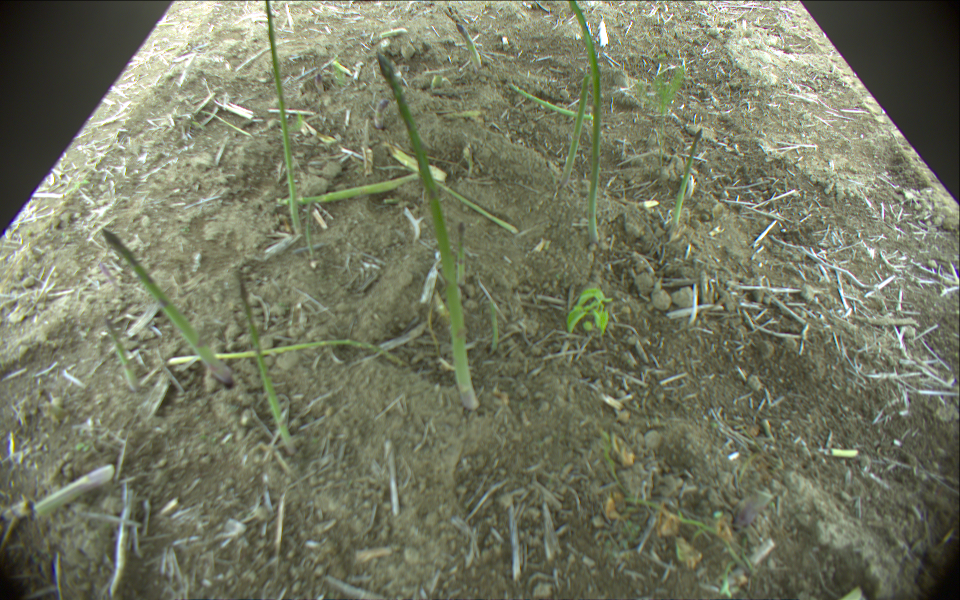aspa: (376, 44, 481, 411), (102, 226, 234, 384), (238, 266, 292, 445), (261, 1, 303, 231), (565, 1, 601, 247), (165, 339, 407, 366), (279, 169, 426, 207), (434, 178, 520, 236), (665, 126, 702, 235), (557, 69, 590, 189), (509, 83, 596, 121), (102, 313, 139, 392), (443, 6, 483, 68), (98, 259, 126, 297), (304, 200, 320, 259)
